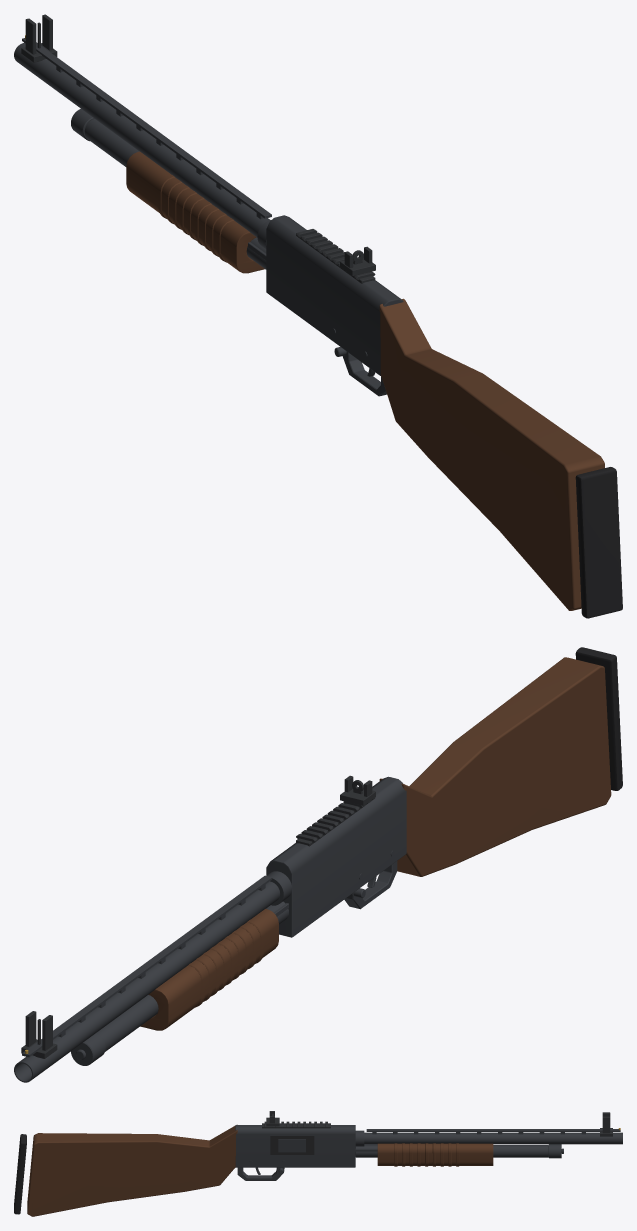
File: wpn_plowman_12.glb
3 renders of one model, top to bottom at view 1: azimuth 30°, elevation 25°; view 2: azimuth 150°, elevation 25°; view 3: azimuth 270°, elevation 25°, orthographic. The views are drawn at different scales.
Parts seen in each view (by area): view 1: Stock, Receiver, Barrel, StockPad, Pump, MagTube, GhostRing, PumpRibs, TopRail, TriggerGroup; view 2: Stock, Receiver, Barrel, Pump, MagTube, StockPad, GhostRing, PumpRibs, TopRail, TriggerGroup; view 3: Stock, Receiver, Barrel, Pump, MagTube, ReceiverDetails, PumpRibs, StockPad, TopRail, GhostRing, TriggerGroup.
Boxes of the visible parts, box(x1,y1,x2,y2) form: Stock: box(379, 298, 604, 610); Receiver: box(266, 215, 403, 375); Barrel: box(14, 38, 271, 248); StockPad: box(575, 467, 622, 618); Pump: box(126, 151, 264, 273); MagTube: box(71, 109, 266, 269); GhostRing: box(21, 14, 375, 276); PumpRibs: box(158, 175, 233, 262); TopRail: box(296, 229, 375, 283); TriggerGroup: box(334, 347, 386, 396); Stock: box(379, 657, 611, 876); Receiver: box(266, 776, 406, 937); Barrel: box(14, 871, 292, 1082); Pump: box(140, 908, 278, 1030); MagTube: box(71, 901, 288, 1065); StockPad: box(575, 647, 622, 790); GhostRing: box(21, 775, 375, 1058); PumpRibs: box(188, 920, 263, 1007); TopRail: box(296, 798, 374, 846); TriggerGroup: box(344, 861, 397, 909); Stock: box(27, 1124, 237, 1216); Receiver: box(235, 1125, 355, 1167); Barrel: box(355, 1129, 622, 1146); Pump: box(377, 1143, 493, 1165); MagTube: box(355, 1144, 563, 1158); ReceiverDetails: box(249, 1136, 314, 1163); PumpRibs: box(394, 1143, 459, 1166); StockPad: box(14, 1134, 26, 1214); TopRail: box(262, 1121, 330, 1128); GhostRing: box(266, 1111, 612, 1136); TriggerGroup: box(237, 1167, 284, 1180).
Bounding box in the file's own units: 0.0484 × 0.1968 × 1.1.
